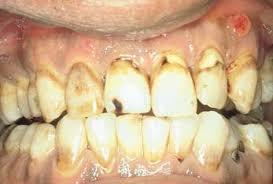Caries: (223, 120, 258, 171)
Discoloration: (149, 52, 198, 114), (106, 55, 150, 114), (223, 50, 264, 111), (83, 105, 121, 165), (192, 45, 229, 106), (62, 61, 105, 112), (28, 68, 70, 118), (56, 114, 91, 170)
